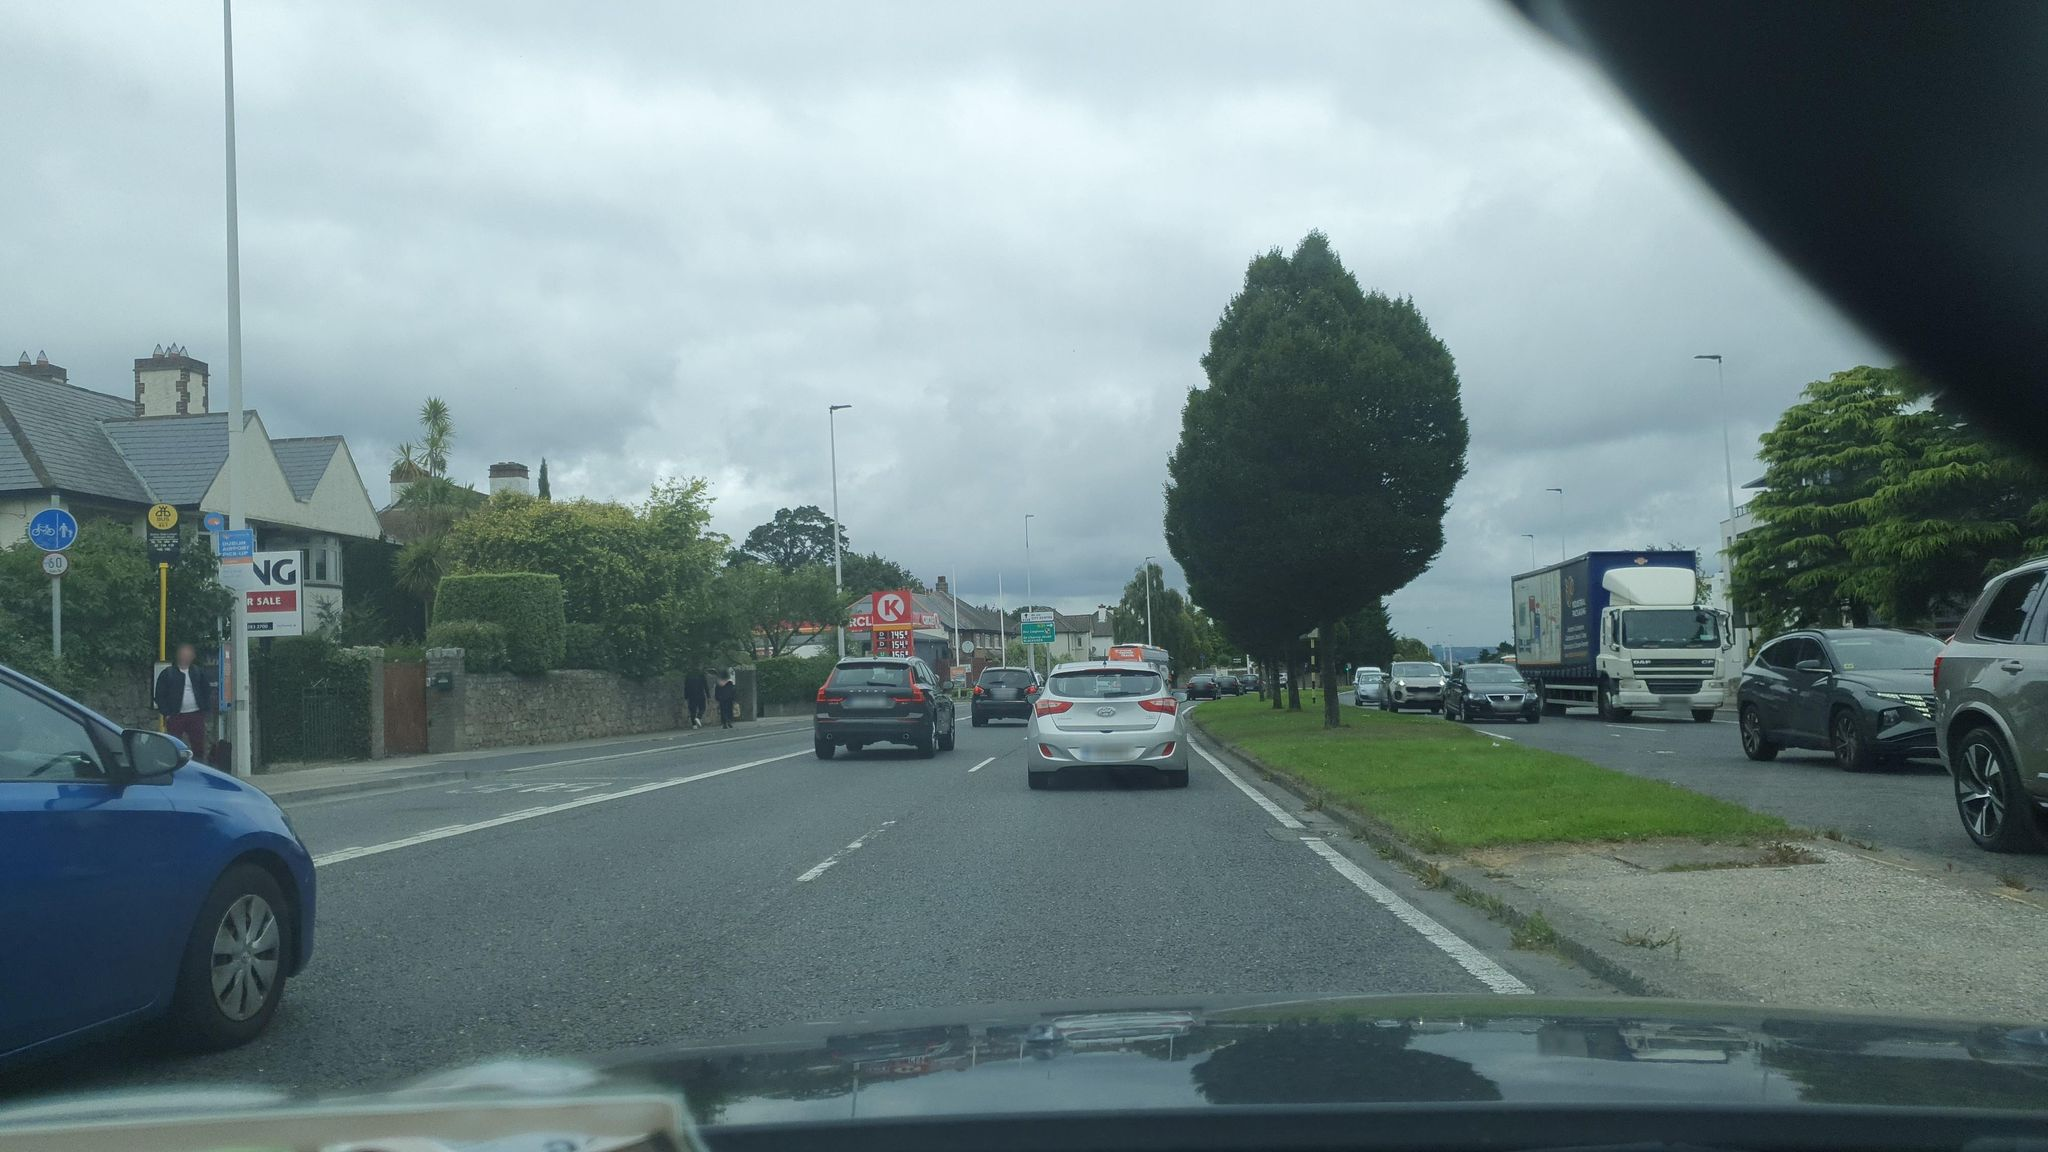property sign: (203, 544, 316, 637)
